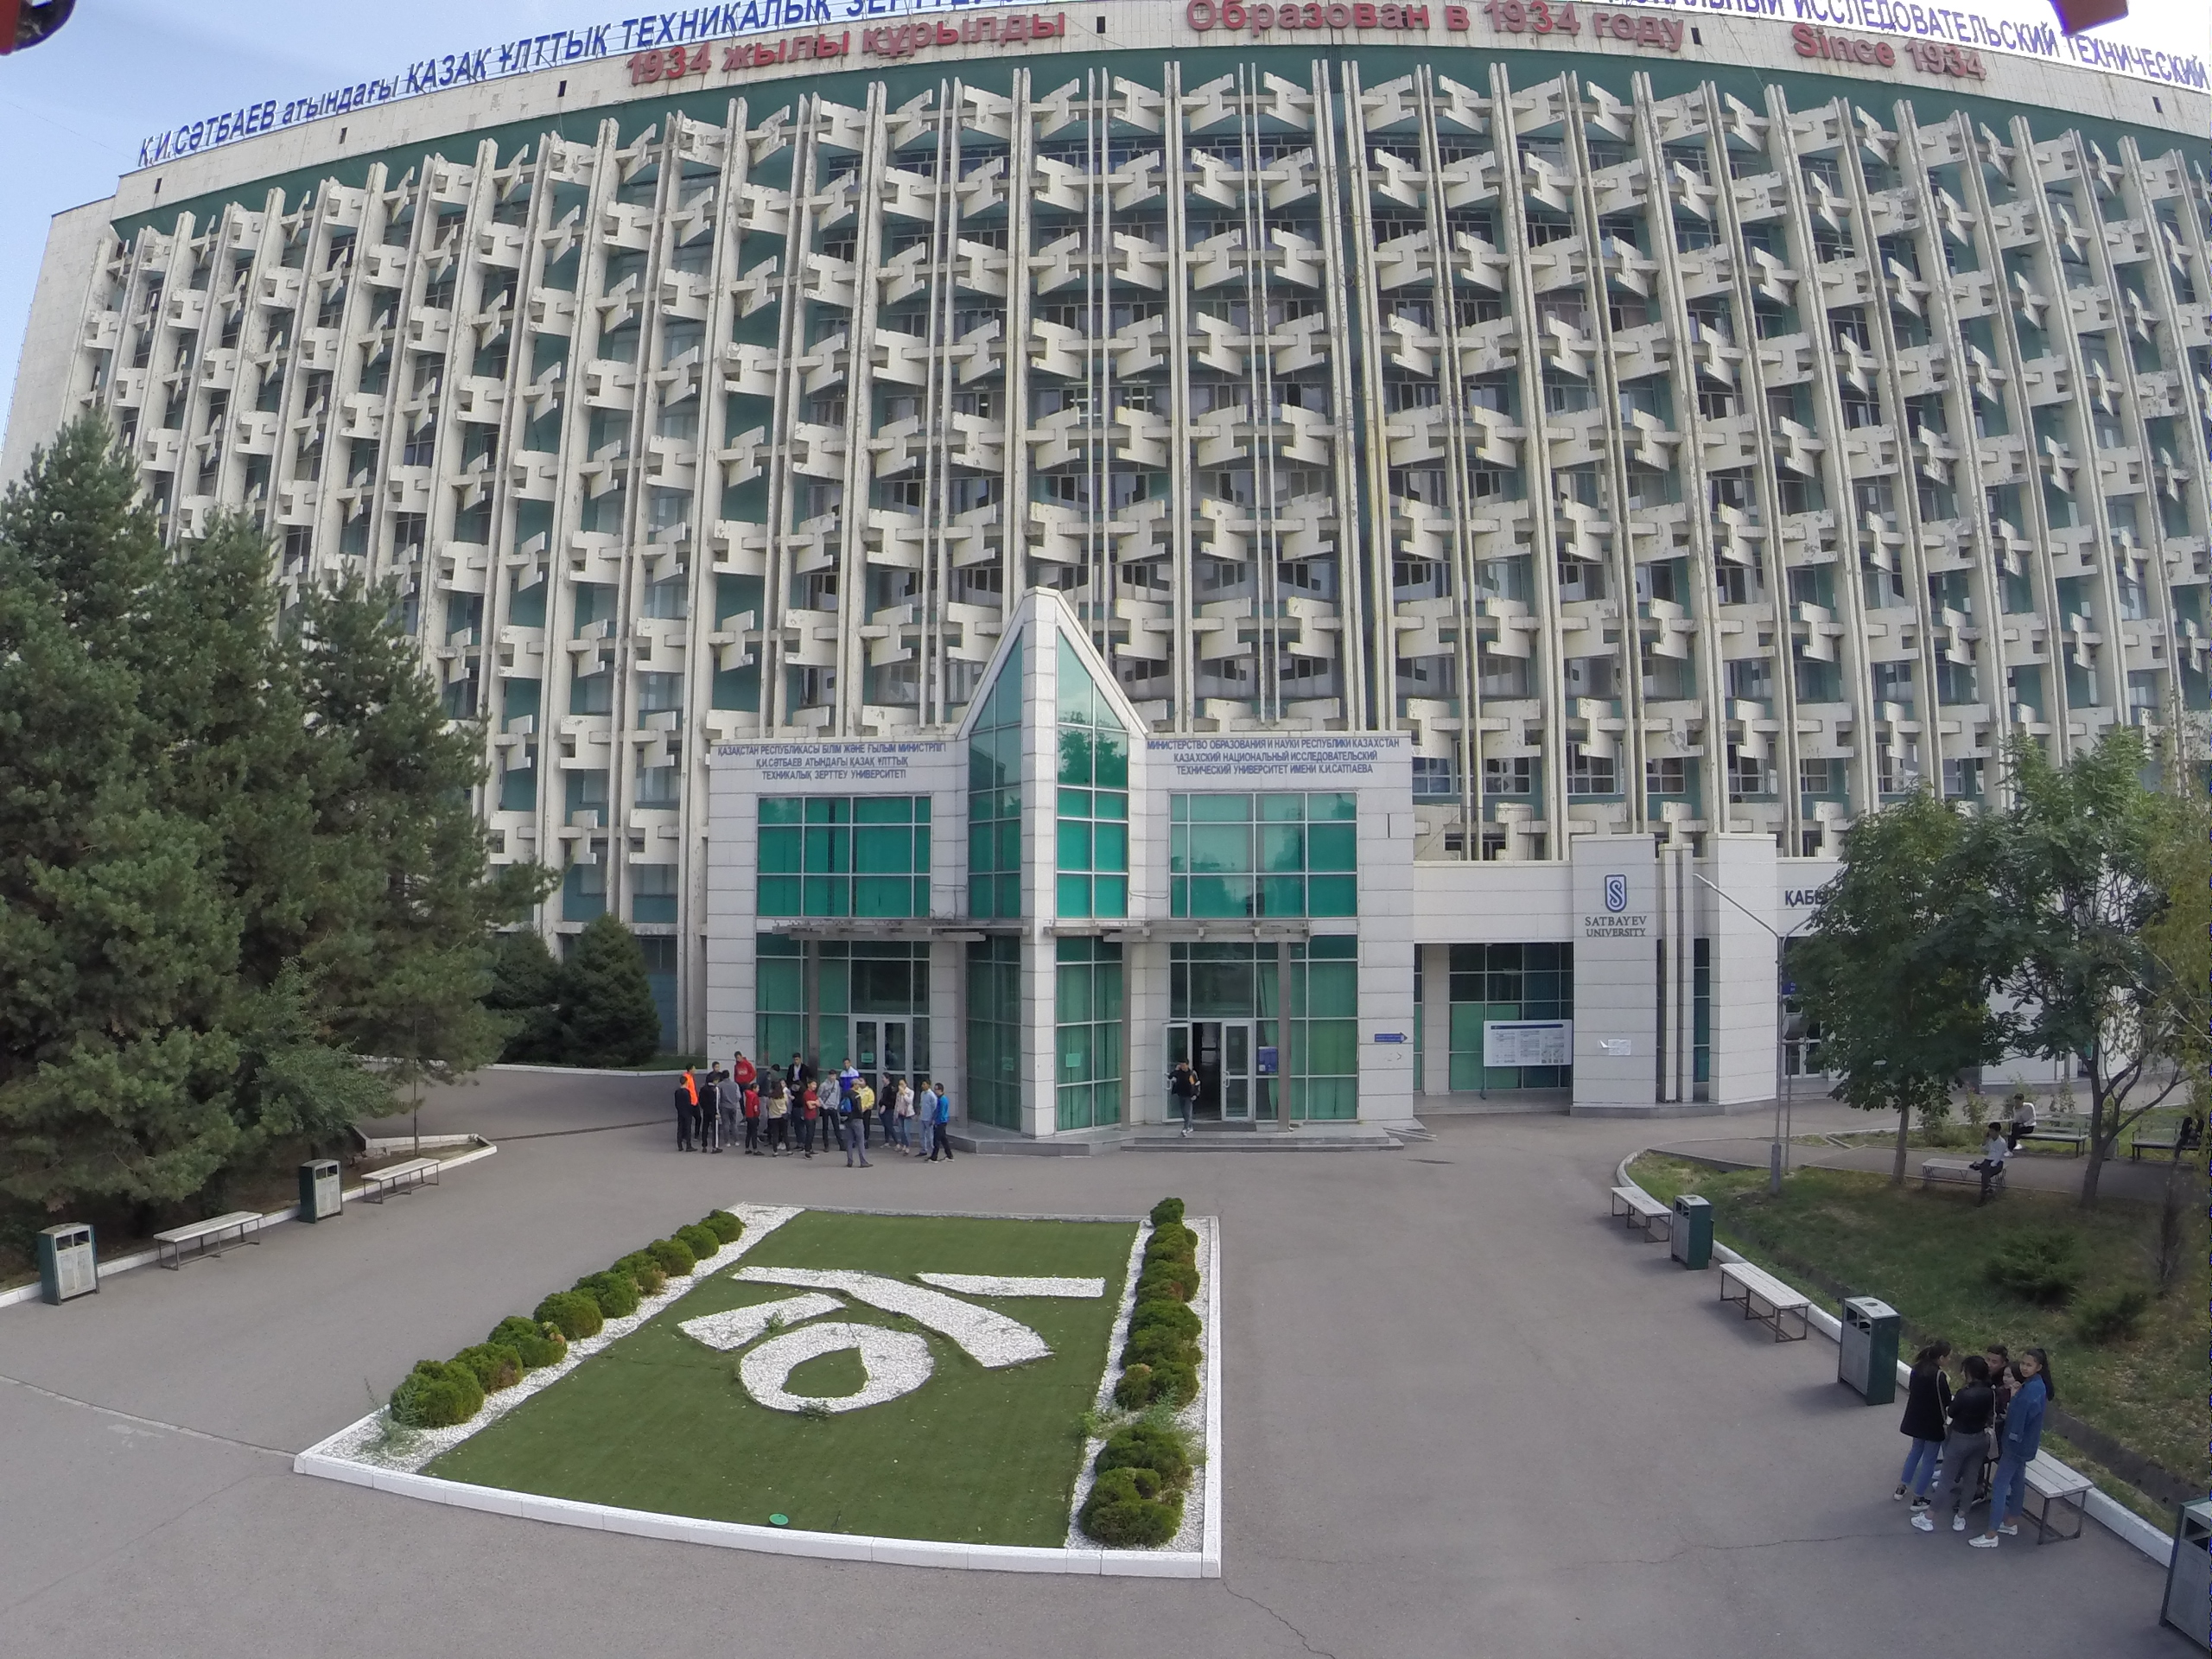person: (1914, 1356, 1999, 1535), (1890, 1337, 1958, 1503), (2009, 1338, 2061, 1551), (1974, 1122, 2010, 1201), (1167, 1059, 1203, 1137), (842, 1078, 872, 1170), (2005, 1090, 2040, 1153), (820, 1067, 842, 1154), (876, 1071, 900, 1149), (701, 1076, 724, 1154), (931, 1082, 953, 1164), (719, 1069, 741, 1147), (770, 1084, 793, 1157), (896, 1078, 917, 1151), (747, 1084, 766, 1156), (676, 1080, 696, 1152), (804, 1079, 821, 1160), (919, 1078, 935, 1154), (733, 1050, 755, 1082), (790, 1052, 810, 1081), (861, 1076, 875, 1114), (838, 1058, 861, 1076), (684, 1062, 696, 1089), (708, 1058, 720, 1077)
